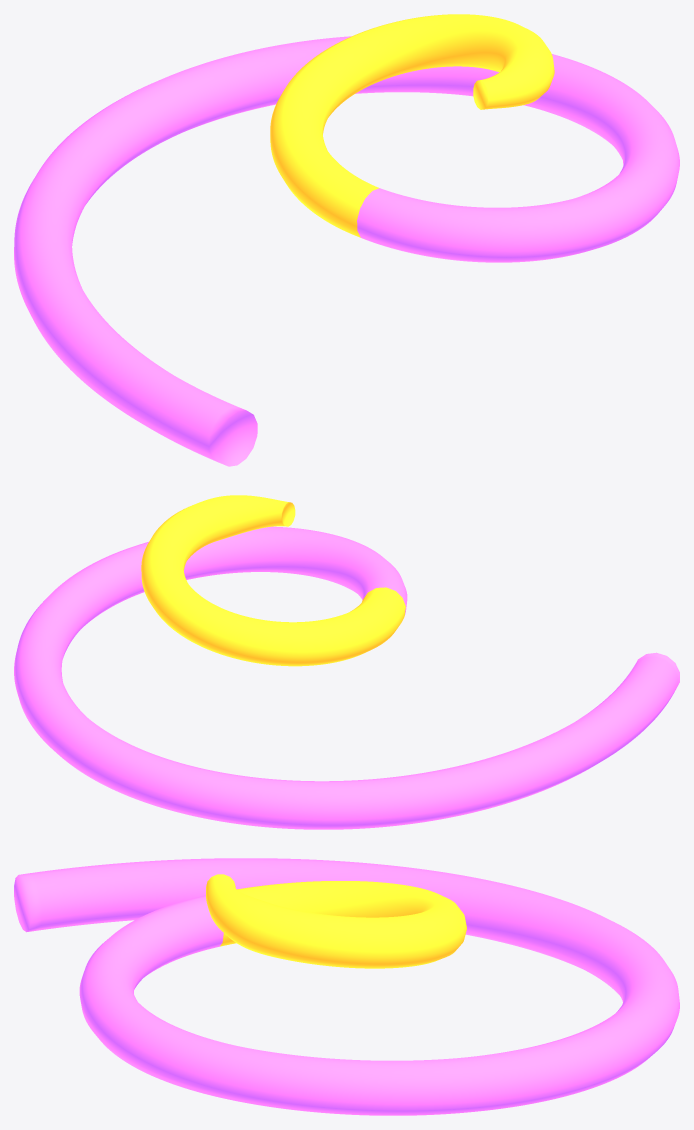
Rendered from semirostrum_noodle.glb.
The picture shows the model from 3 angles, top to bottom: view 1: azimuth 30°, elevation 25°; view 2: azimuth 150°, elevation 25°; view 3: azimuth 270°, elevation 25°; orthographic projection. The views are drawn at different scales.
Visible parts, largest first — view 1: Semirostrum | TURN COUNT NOODLE | T00_100, Semirostrum | TURN COUNT NOODLE | T100_200; view 2: Semirostrum | TURN COUNT NOODLE | T00_100, Semirostrum | TURN COUNT NOODLE | T100_200; view 3: Semirostrum | TURN COUNT NOODLE | T00_100, Semirostrum | TURN COUNT NOODLE | T100_200.
Boxes of the visible parts, left/top/right/bottom form: Semirostrum | TURN COUNT NOODLE | T00_100: left=14, top=36, right=679, bottom=466; Semirostrum | TURN COUNT NOODLE | T100_200: left=270, top=14, right=554, bottom=237; Semirostrum | TURN COUNT NOODLE | T00_100: left=14, top=526, right=679, bottom=829; Semirostrum | TURN COUNT NOODLE | T100_200: left=141, top=495, right=405, bottom=666; Semirostrum | TURN COUNT NOODLE | T00_100: left=14, top=858, right=679, bottom=1115; Semirostrum | TURN COUNT NOODLE | T100_200: left=206, top=874, right=466, bottom=968.
Bounding box in the file's own units: 8.18 × 2.89 × 7.84.
